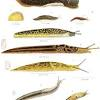slug: (1, 42, 99, 55), (9, 60, 88, 75), (14, 80, 65, 100), (13, 29, 81, 37), (65, 91, 88, 100)
